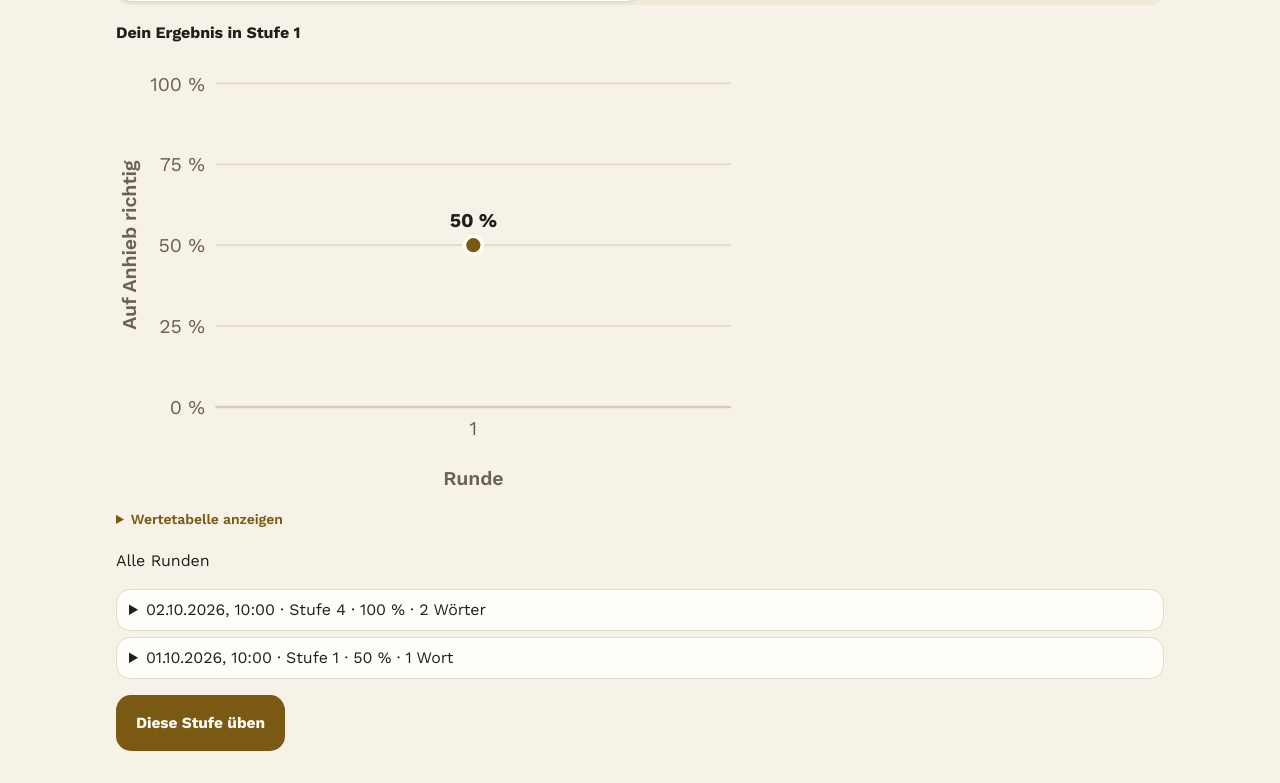
HistoryScreen › listet alle Runden, jede aufklappbar mit den Wörtern
(page scrolled)
Expected: the list item "02.10.2026, 10:00 · Stufe 4 · 100 % · 2 Wörter" is shown, [116, 589, 1164, 631]
Click the heading "02.10.2026, 10:00 · Stufe 4 · 100 % · 2 Wörter" at (307, 610), box [129, 598, 486, 622]
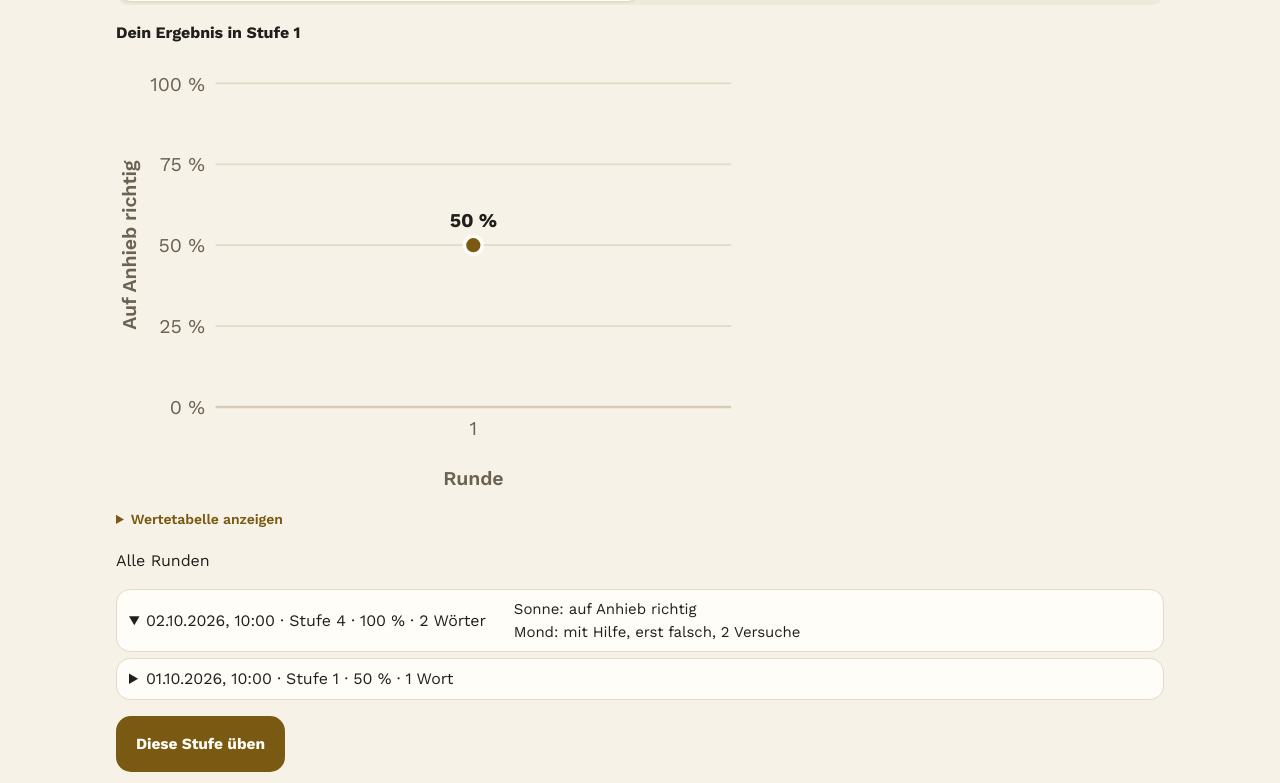
Result: the list item that starts with "· Stufe" shows "Sonne: auf Anhieb richtig" at [116, 589, 1164, 652]
Result: the list item that starts with "· Stufe" shows "Mond: mit Hilfe, erst falsch, 2 Versuche" at [116, 589, 1164, 652]
